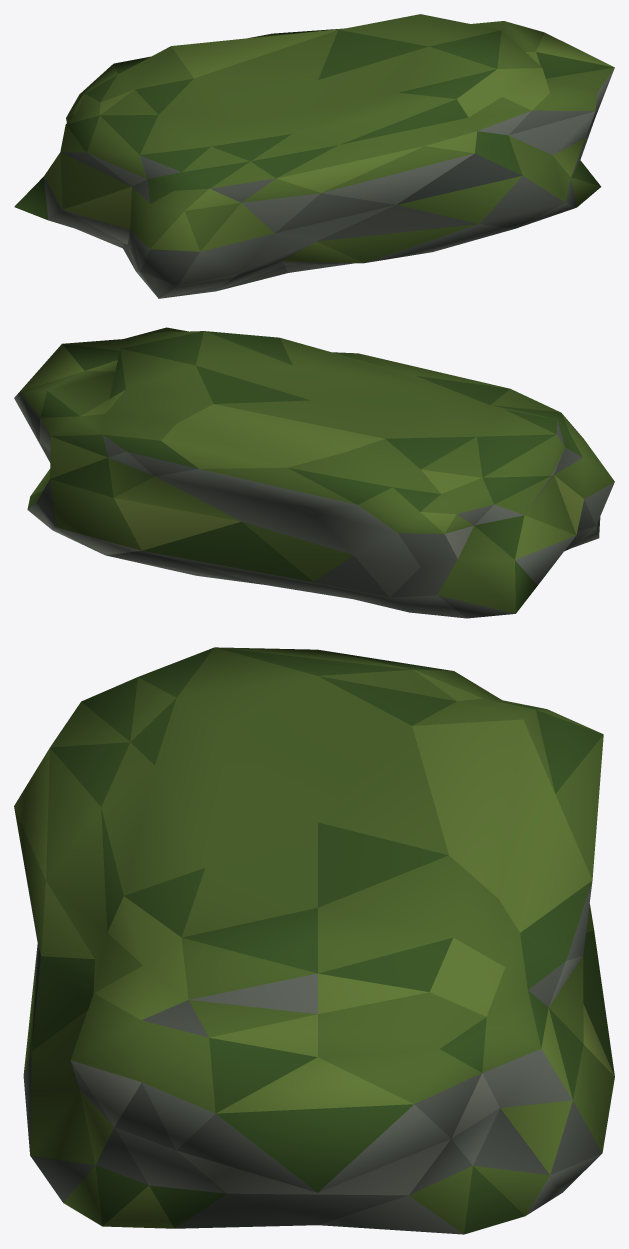
Rendered from forest-cascade-ledge-2.glb.
3 renders of one model, top to bottom at view 1: azimuth 30°, elevation 25°; view 2: azimuth 150°, elevation 25°; view 3: azimuth 270°, elevation 25°, orthographic. The views are drawn at different scales.
Visible parts, largest first — view 1: forest-cascade-ledge-2/0; view 2: forest-cascade-ledge-2/0; view 3: forest-cascade-ledge-2/0.
Boxes of the visible parts, x1,y1,x2,y2 form: forest-cascade-ledge-2/0: (14, 14, 614, 298); forest-cascade-ledge-2/0: (14, 327, 614, 618); forest-cascade-ledge-2/0: (14, 647, 614, 1234).
Size of the model in its own units: 5.83 by 1.68 by 3.14.
